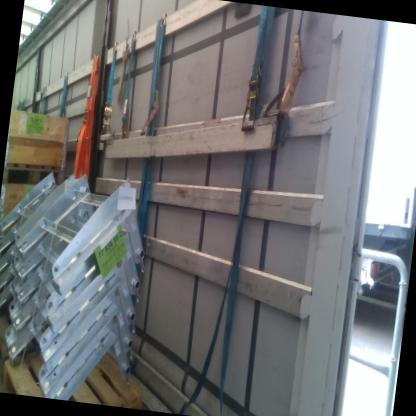pallet: (0, 311, 152, 409), (0, 308, 30, 384), (2, 160, 67, 194)
